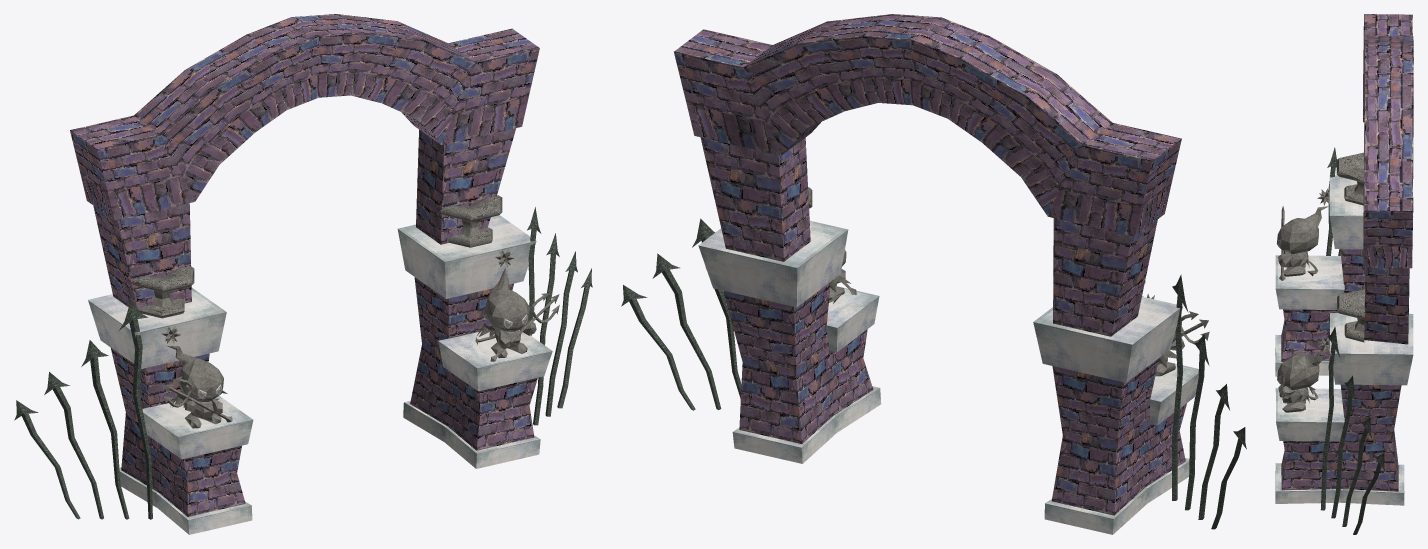
File: dark_garden_entrance.glb
The picture shows the model from 3 angles, left to right: view 1: azimuth 30°, elevation 25°; view 2: azimuth 150°, elevation 25°; view 3: azimuth 270°, elevation 25°; orthographic projection. The views are drawn at different scales.
Parts seen in each view (by area): view 1: Object_8, Object_7, Object_2, Object_6; view 2: Object_8, Object_7, Object_6, Object_2; view 3: Object_8, Object_7, Object_2, Object_6.
Part boxes in pixels (x1,y1,x2,y2): Object_8: [70, 14, 539, 516]; Object_7: [88, 215, 552, 534]; Object_2: [131, 195, 559, 428]; Object_6: [14, 207, 592, 519]; Object_8: [674, 14, 1186, 515]; Object_7: [698, 220, 1198, 534]; Object_6: [621, 218, 1246, 529]; Object_2: [808, 187, 1209, 376]; Object_8: [1281, 14, 1413, 491]; Object_7: [1275, 175, 1413, 505]; Object_2: [1277, 152, 1364, 412]; Object_6: [1320, 147, 1384, 534].
Size of the model in its own units: 6.05 by 4.24 by 1.42.
7 materials, 7 textured.
